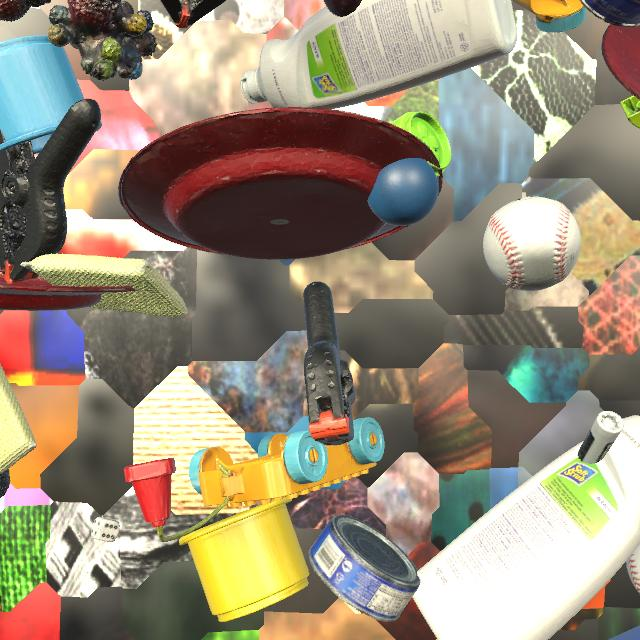ycb_002_master_chef_can: (579, 0, 640, 27)
ycb_007_tuna_fish_can: (308, 515, 421, 622)
ycb_018_plum: (323, 0, 362, 17)
